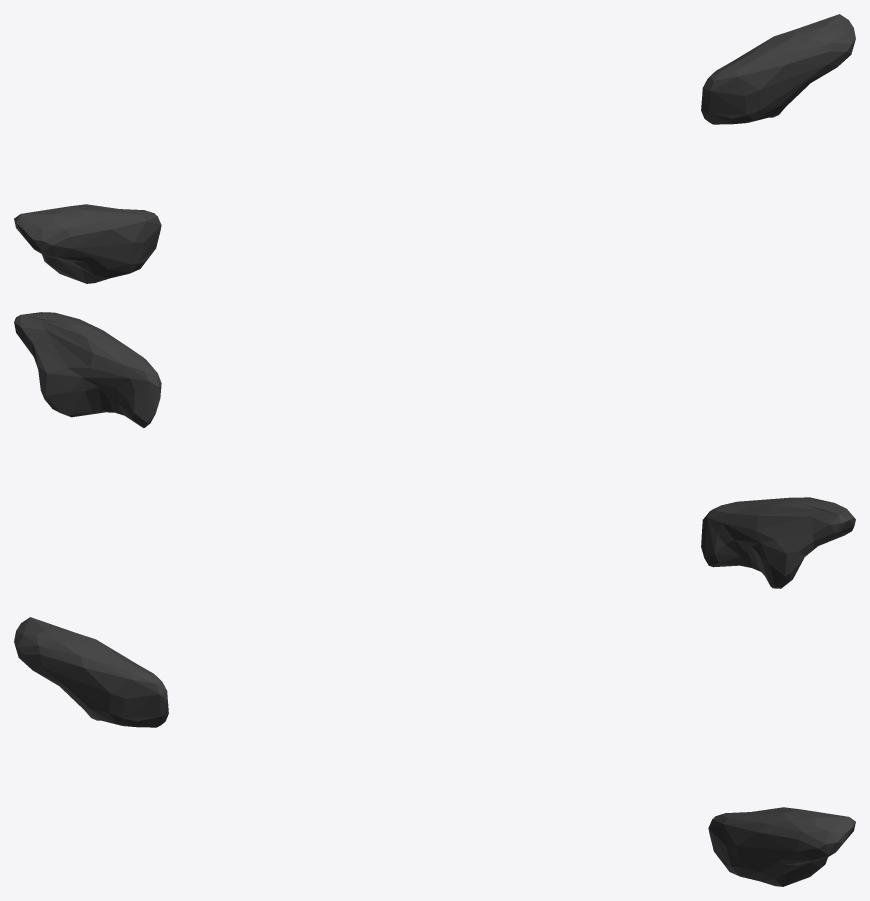
Rendered from skel_cartilage_patellar.glb.
The picture shows the model from 3 angles, top to bottom: view 1: azimuth 30°, elevation 25°; view 2: azimuth 150°, elevation 25°; view 3: azimuth 330°, elevation 25°; orthographic projection.
Visible parts, largest first — view 1: skel_cartilage_patellar; view 2: skel_cartilage_patellar; view 3: skel_cartilage_patellar.
Boxes of the visible parts, x1,y1,x2,y2 form: skel_cartilage_patellar: [14, 14, 855, 283]; skel_cartilage_patellar: [14, 312, 855, 588]; skel_cartilage_patellar: [14, 617, 855, 886].
Size of the model in its own units: 0.00637 by 0.000618 by 0.000469.
1 material, 1 textured.
